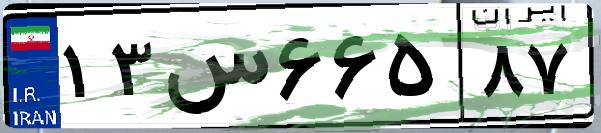1: (57, 26, 110, 100)
3: (110, 28, 158, 98)
5: (385, 28, 445, 110)
6: (270, 28, 330, 110), (330, 28, 385, 110)
7: (525, 38, 570, 115)
8: (475, 38, 525, 113)
س: (158, 20, 270, 120)
